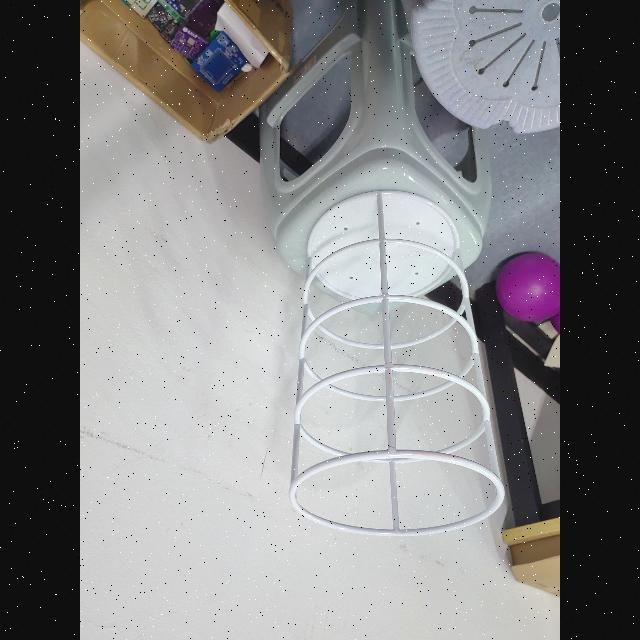S: (286, 182, 509, 540)
